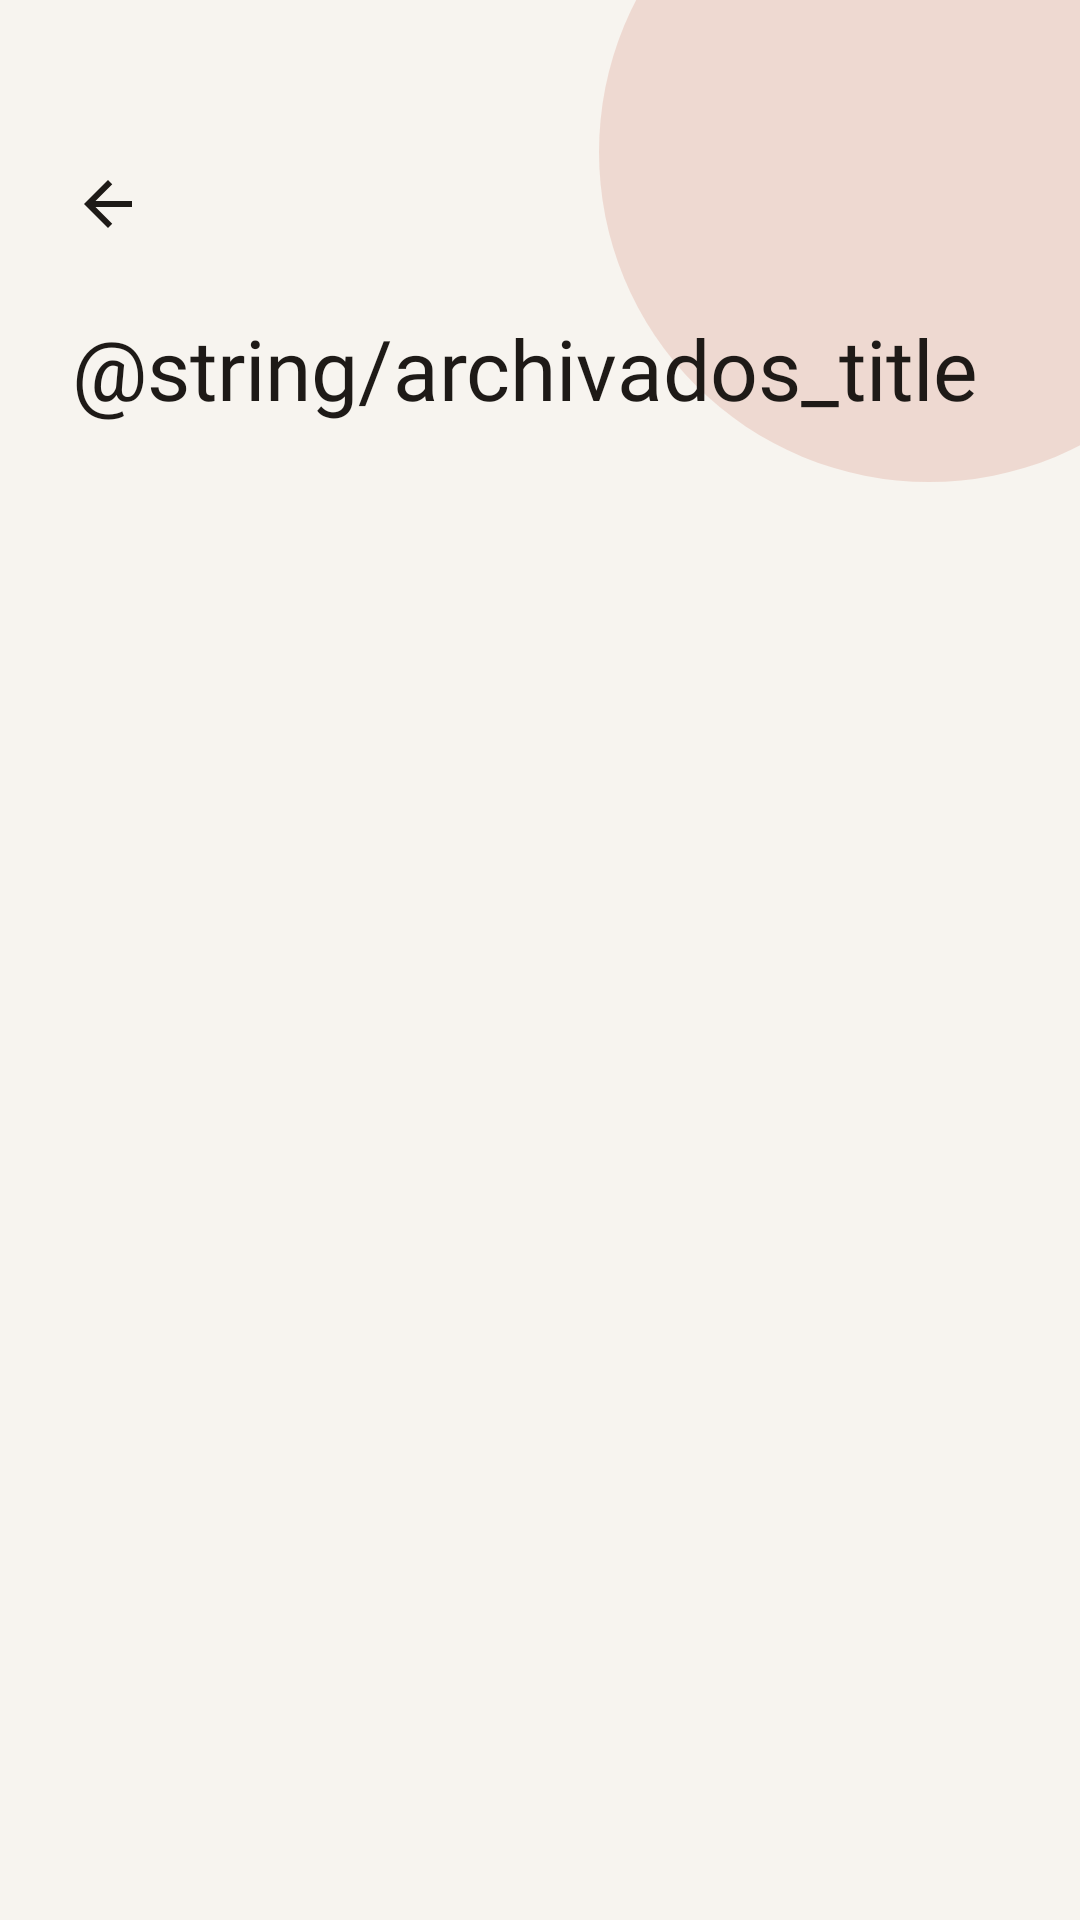

Screen size 1080 × 1920. Icon name, then its center in pixels as (x,y):
Regresar: (108,204)
